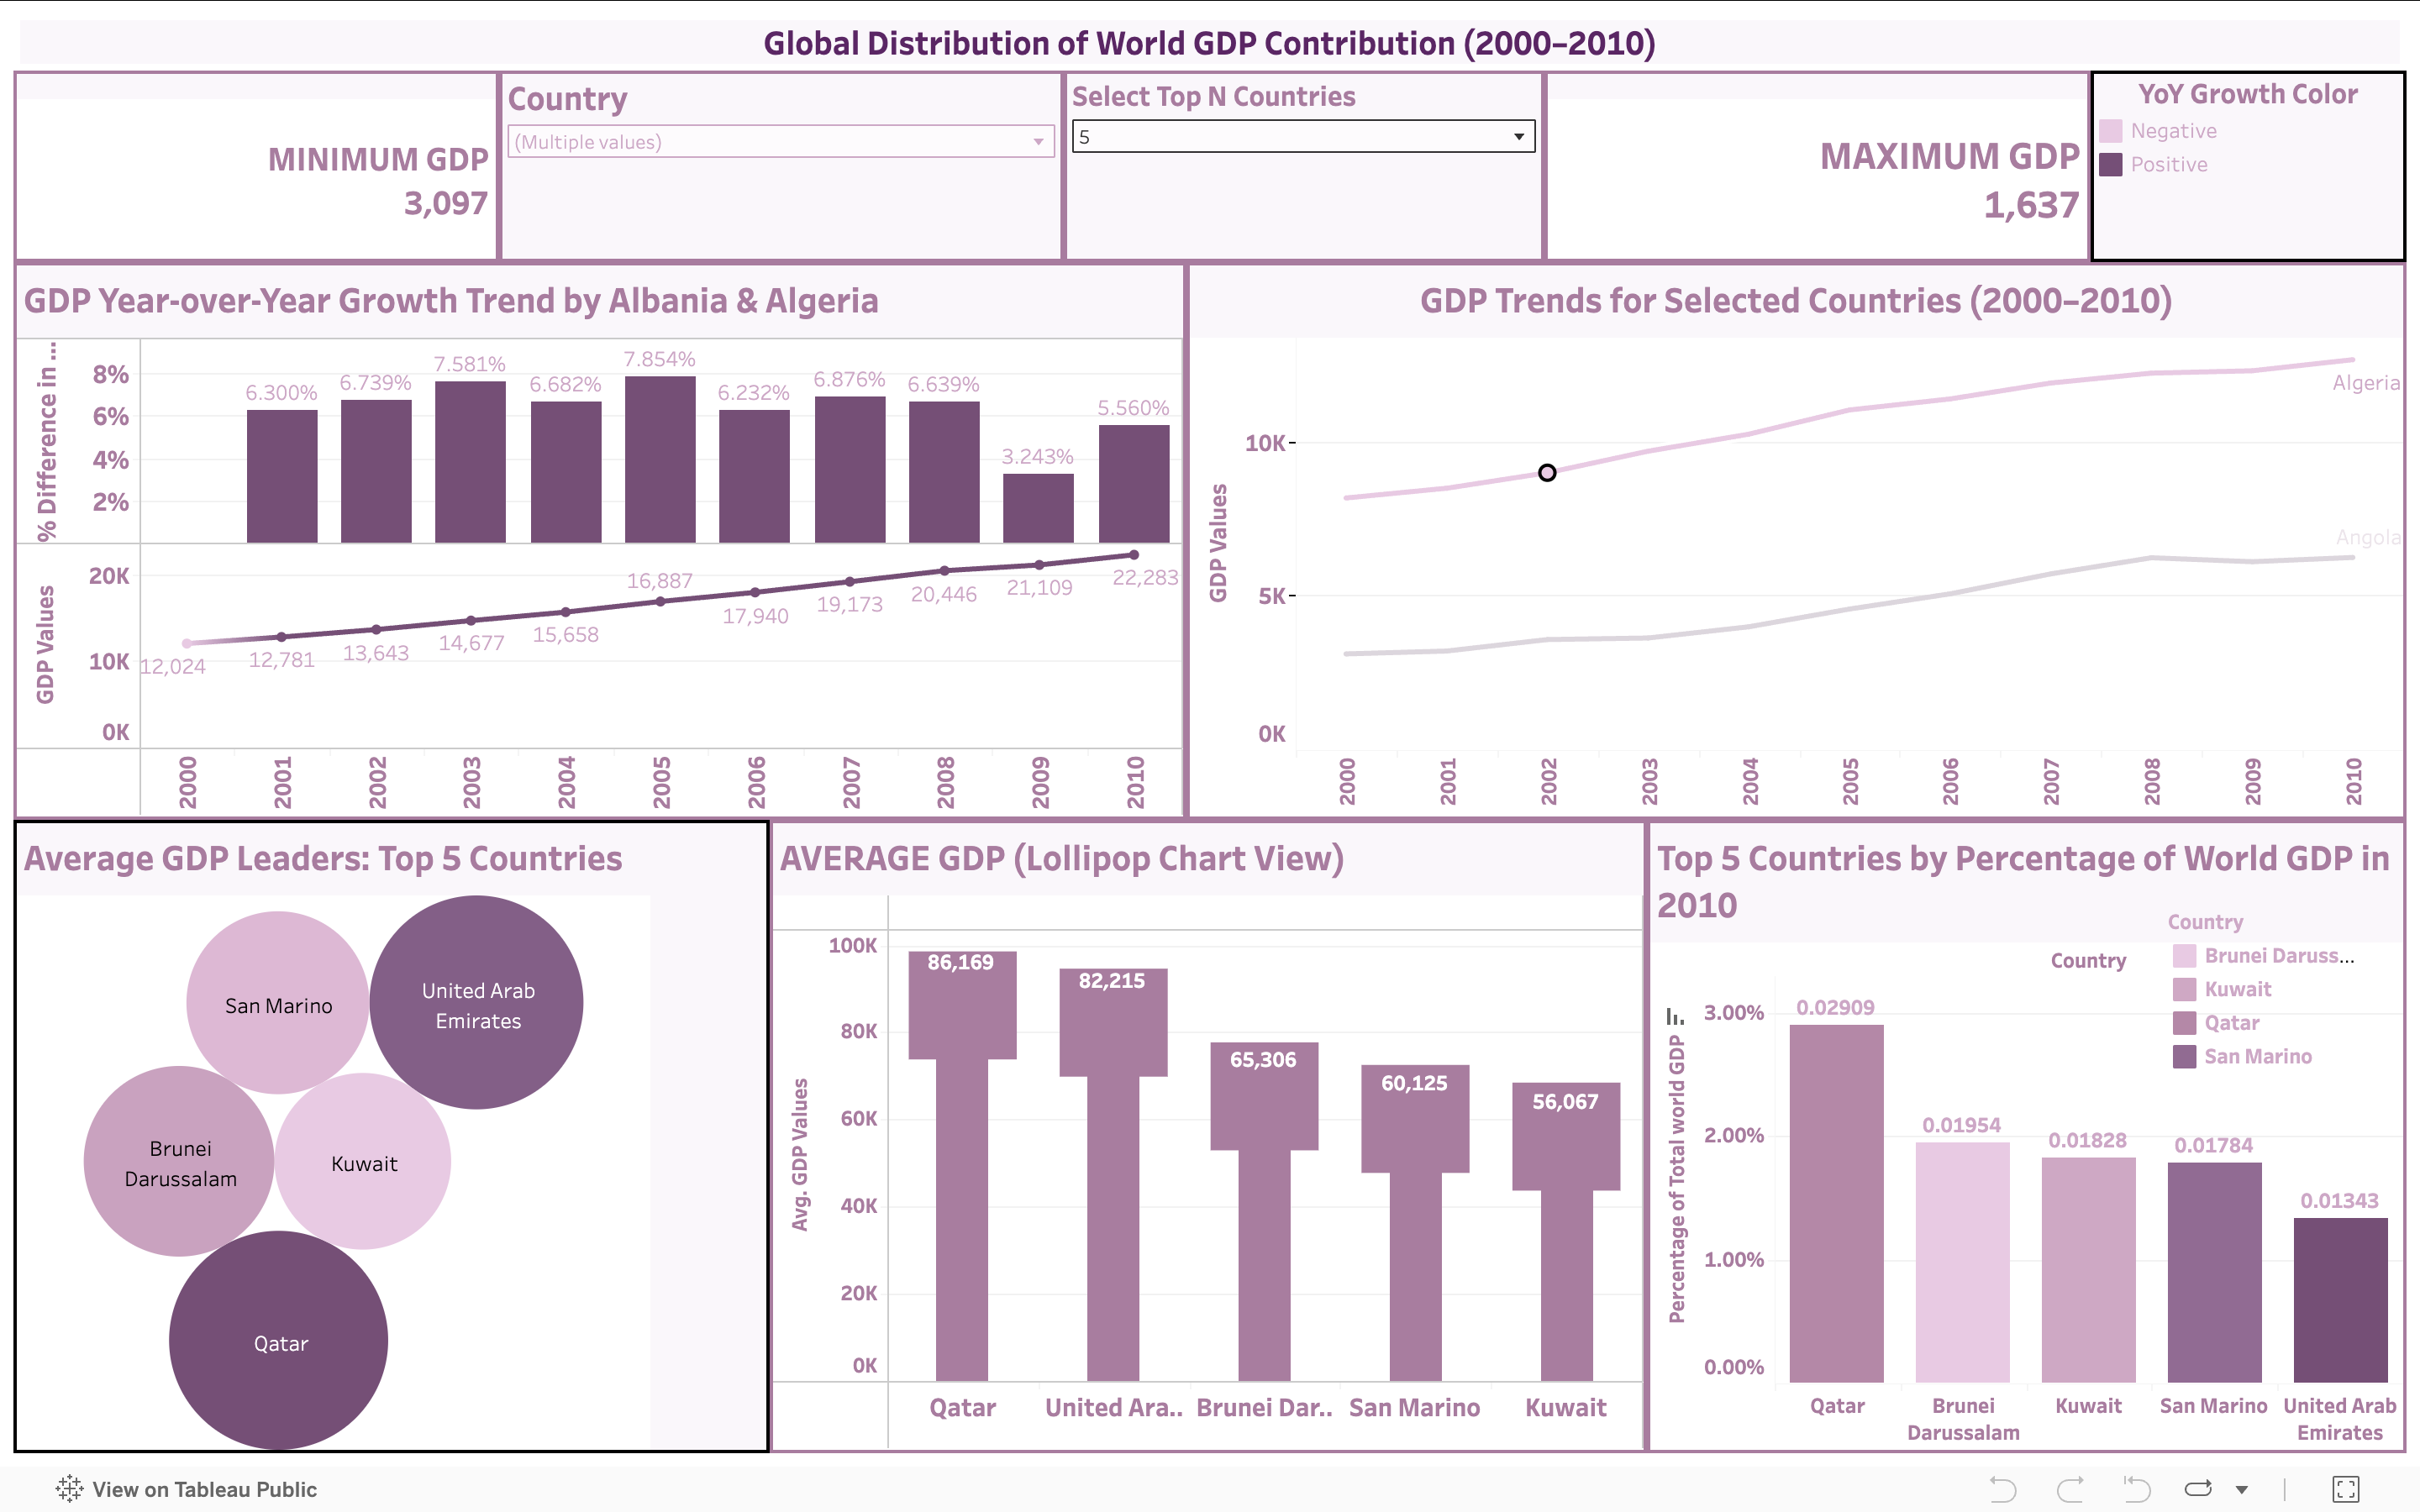

What the dashboard file says about the page in this screenshot:
{"tool":"tableau","page":{"name":"Dashboard 1","canvas":[1000,1000],"units":"permille","ordinal":0},"visuals":[{"type":"title","box":[6.5,10.4,987,44.3]},{"type":"worksheet","title":"Sheet 2","mark":"Automatic","box":[6.5,54.7,200.2,129.6]},{"type":"filter","title":"Sheet 7","param":"[federated.16i5qo808li5x518i8fvh0lgpr80].[none:Country:nk]","box":[206.7,54.7,232.7,129.6]},{"type":"parameter","param":"[Parameters].[Parameter 1]","box":[439.4,54.7,198.5,129.6]},{"type":"worksheet","title":"Sheet 4","mark":"Automatic","box":[637.9,54.7,225.4,129.6]},{"type":"legend","title":"Sheet 7","param":"[federated.16i5qo808li5x518i8fvh0lgpr80].[usr:Calculation_1984680064742232064:nk","box":[863.3,54.7,130.2,129.6]},{"type":"worksheet","title":"Sheet 7","mark":"Automatic","rows":["Pivot Field Values","Pivot Field Values"],"cols":["Pivot Field Names"],"box":[6.5,184.3,567.9,376.9]},{"type":"worksheet","title":"Sheet 1","mark":"Line","rows":["Pivot Field Values"],"cols":["Pivot Field Names"],"box":[574.5,184.3,418.9,376.9]},{"type":"worksheet","title":"Sheet 8","mark":"Circle","box":[6.5,561.2,312.1,428.4]},{"type":"worksheet","title":"Sheet 10","mark":"Circle","rows":["Pivot Field Values","Pivot Field Values"],"cols":["Country"],"box":[318.6,561.2,361.4,428.4]},{"type":"worksheet","title":"Sheet 3","mark":"Automatic","rows":["Calculation_1828109608934776834"],"cols":["Country"],"box":[680,561.2,313.5,428.4]},{"type":"legend","title":"Sheet 3","param":"[federated.16i5qo808li5x518i8fvh0lgpr80].[none:Country:nk]","box":[895.9,618.5,90.3,114.6]}]}

Visuals, with their boxes on the dashboard's canvas, which has no fixed pixel size, in thousandths of its width and height (x1, y1, x2, y2). These are canvas units, not pixel positions in the 2420x1512 screenshot, which may show the page scaled, cropped or inside an application window:
title: l=6, t=10, r=994, b=55
"Sheet 2" worksheet: l=6, t=55, r=207, b=184
"Sheet 7" filter: l=207, t=55, r=439, b=184
parameter: l=439, t=55, r=638, b=184
"Sheet 4" worksheet: l=638, t=55, r=863, b=184
"Sheet 7" legend: l=863, t=55, r=994, b=184
"Sheet 7" worksheet: l=6, t=184, r=574, b=561
"Sheet 1" worksheet (Line marks): l=574, t=184, r=993, b=561
"Sheet 8" worksheet (Circle marks): l=6, t=561, r=319, b=990
"Sheet 10" worksheet (Circle marks): l=319, t=561, r=680, b=990
"Sheet 3" worksheet: l=680, t=561, r=994, b=990
"Sheet 3" legend: l=896, t=618, r=986, b=733
